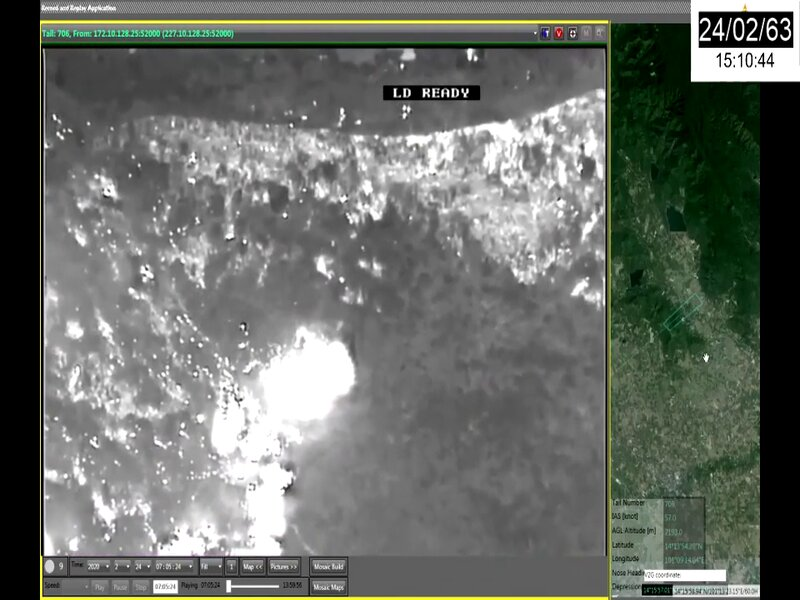Fire: (159, 325, 356, 555)
